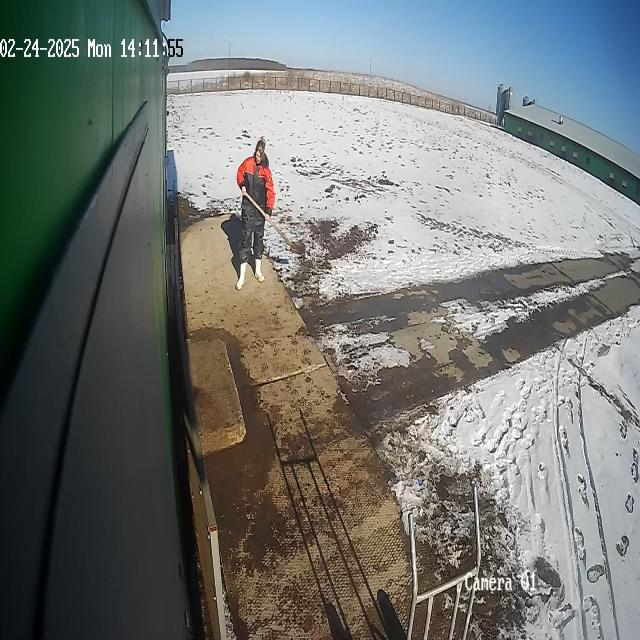Red uniform: (235, 155, 276, 266)
